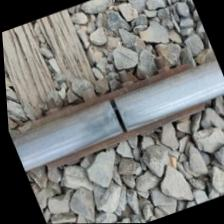person: (81, 82, 152, 152)
